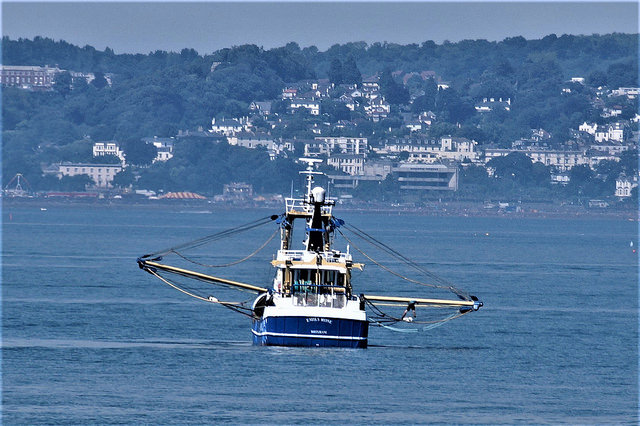fishing_boat: (134, 158, 499, 357)
